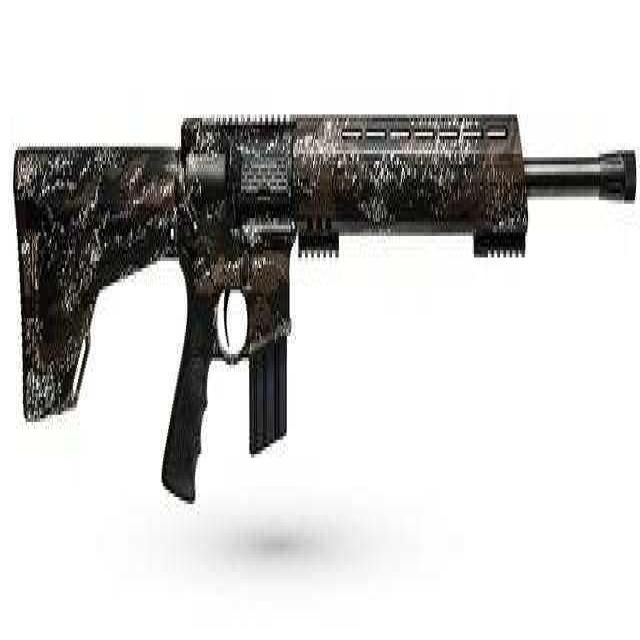heavyweapon: (4, 72, 636, 616)
